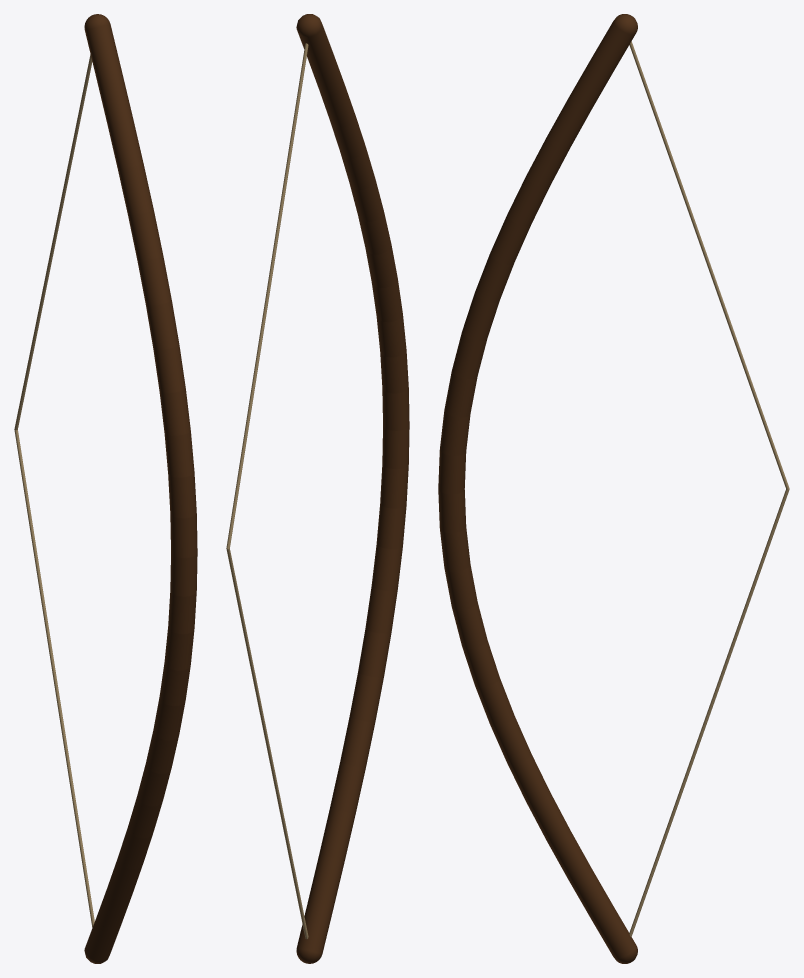
The model's file is survival_bow.glb.
3 views of the same model, side by side, from view 1: azimuth 30°, elevation 25°; view 2: azimuth 150°, elevation 25°; view 3: azimuth 270°, elevation 25° (orthographic).
Parts seen in each view (by area): view 1: BatchedSurface, _MeshInstance3D_8; view 2: BatchedSurface, _MeshInstance3D_8; view 3: BatchedSurface, _MeshInstance3D_8.
Part boxes in pixels (left/top/right/bottom): BatchedSurface: left=84, top=14, right=197, bottom=963; _MeshInstance3D_8: left=14, top=54, right=94, bottom=927; BatchedSurface: left=296, top=14, right=409, bottom=963; _MeshInstance3D_8: left=226, top=43, right=308, bottom=939; BatchedSurface: left=438, top=14, right=637, bottom=963; _MeshInstance3D_8: left=629, top=41, right=789, bottom=936.
Bounding box in the file's own units: 0.026 × 1.03 × 0.3447.
